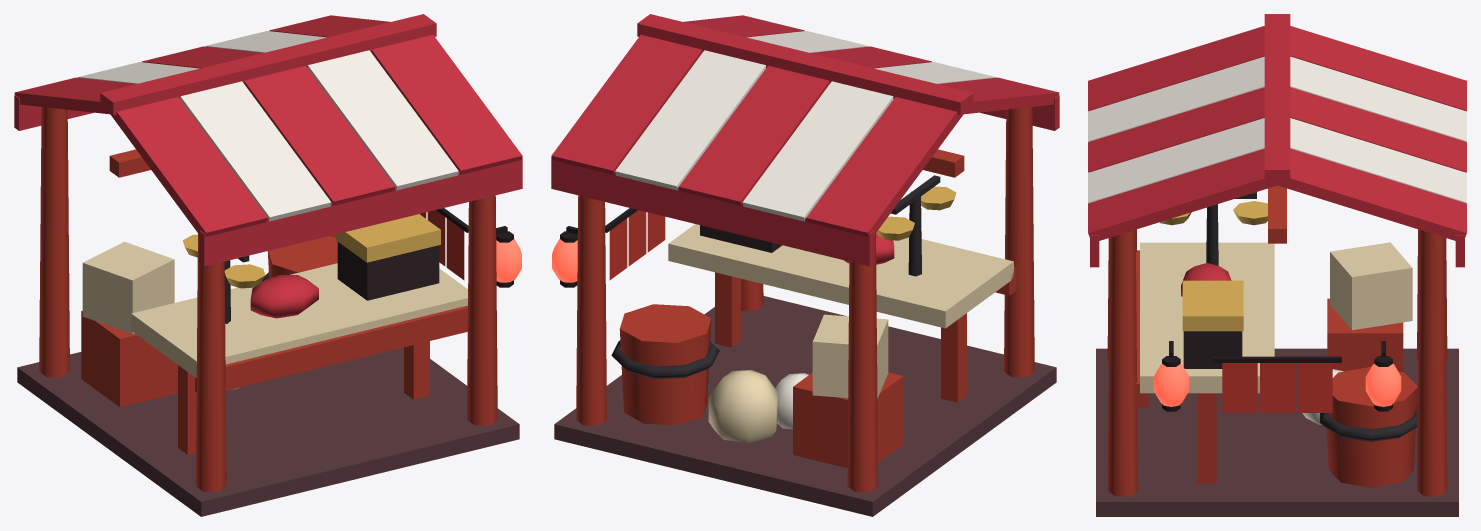
The model's file is building_market.glb.
The picture shows the model from 3 angles, left to right: view 1: azimuth 30°, elevation 25°; view 2: azimuth 150°, elevation 25°; view 3: azimuth 270°, elevation 25°; orthographic projection.
Visible parts, largest first — view 1: canopy, ground, table, canopy_valance_s, canopy_ridge, post_wn, post_ws, post_es, table_edge, crate_b, crate_a, coin_chest (+10 smaller); view 2: canopy, ground, table, canopy_valance_n, barrel, canopy_ridge, post_ws, post_wn, post_en, crate_a, sack_a, crate_b (+13 smaller); view 3: canopy, ground, table, post_en, post_es, barrel, crate_b, deco_noren, canopy_ridge, coin_chest_lid, crate_a, coin_chest (+11 smaller).
Boxes of the visible parts, x1=… form: canopy: x1=14, y1=15, x2=522, y2=236; ground: x1=17, y1=347, x2=519, y2=516; table: x1=131, y1=263, x2=467, y2=378; canopy_valance_s: x1=199, y1=157, x2=522, y2=266; canopy_ridge: x1=100, y1=14, x2=436, y2=115; post_wn: x1=39, y1=107, x2=69, y2=377; post_ws: x1=195, y1=233, x2=226, y2=491; post_es: x1=467, y1=195, x2=497, y2=425; table_edge: x1=195, y1=305, x2=467, y2=392; crate_b: x1=82, y1=241, x2=174, y2=334; crate_a: x1=81, y1=310, x2=177, y2=407; coin_chest: x1=337, y1=242, x2=439, y2=300; canopy: x1=551, y1=15, x2=1059, y2=236; ground: x1=554, y1=296, x2=1056, y2=516; table: x1=668, y1=224, x2=1013, y2=328; canopy_valance_n: x1=551, y1=157, x2=874, y2=266; barrel: x1=619, y1=304, x2=711, y2=425; canopy_ridge: x1=637, y1=14, x2=973, y2=115; post_ws: x1=1004, y1=107, x2=1034, y2=377; post_wn: x1=847, y1=233, x2=878, y2=491; post_en: x1=576, y1=195, x2=606, y2=425; crate_a: x1=793, y1=372, x2=903, y2=468; sack_a: x1=708, y1=370, x2=778, y2=443; crate_b: x1=812, y1=314, x2=888, y2=398; canopy: x1=1088, y1=26, x2=1466, y2=240; ground: x1=1096, y1=348, x2=1458, y2=516; table: x1=1140, y1=242, x2=1274, y2=393; post_en: x1=1417, y1=230, x2=1447, y2=496; post_es: x1=1107, y1=230, x2=1137, y2=496; barrel: x1=1326, y1=367, x2=1417, y2=487; crate_b: x1=1330, y1=242, x2=1412, y2=330; deco_noren: x1=1222, y1=363, x2=1332, y2=412; canopy_ridge: x1=1264, y1=14, x2=1290, y2=182; coin_chest_lid: x1=1182, y1=280, x2=1243, y2=331; crate_a: x1=1327, y1=298, x2=1403, y2=372; coin_chest: x1=1183, y1=331, x2=1242, y2=368.
Size of the model in its own units: 0.3502 by 0.3328 by 0.3233.
